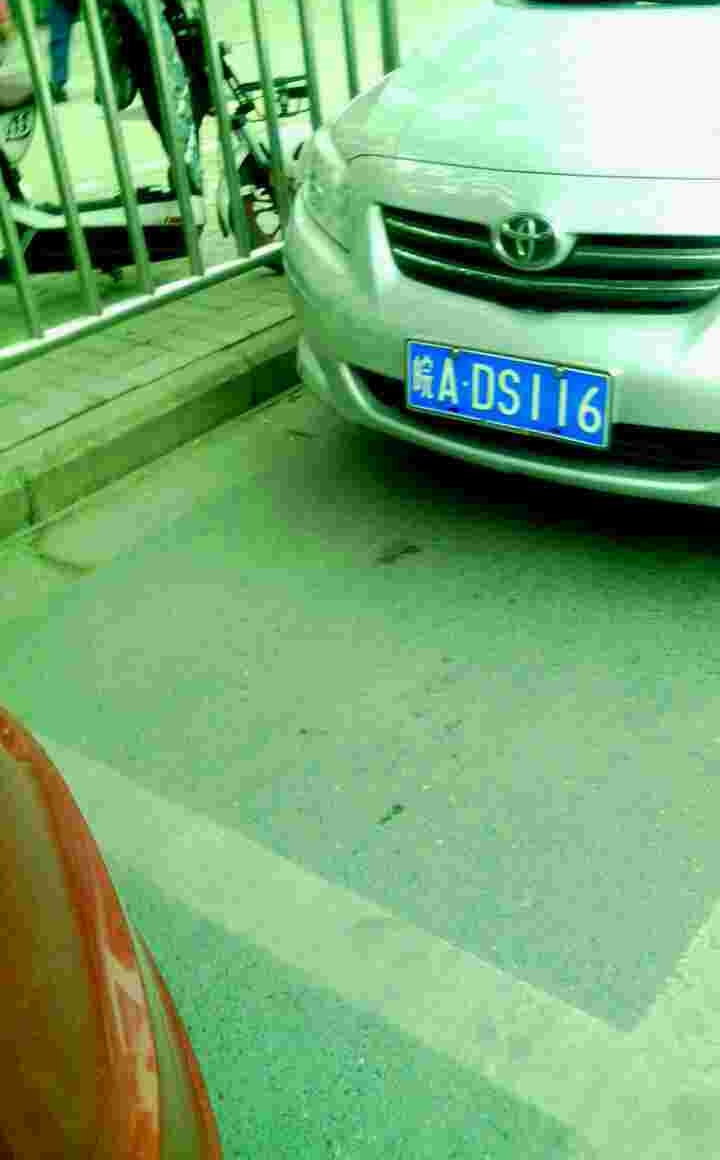plate: (403, 335, 613, 448)
